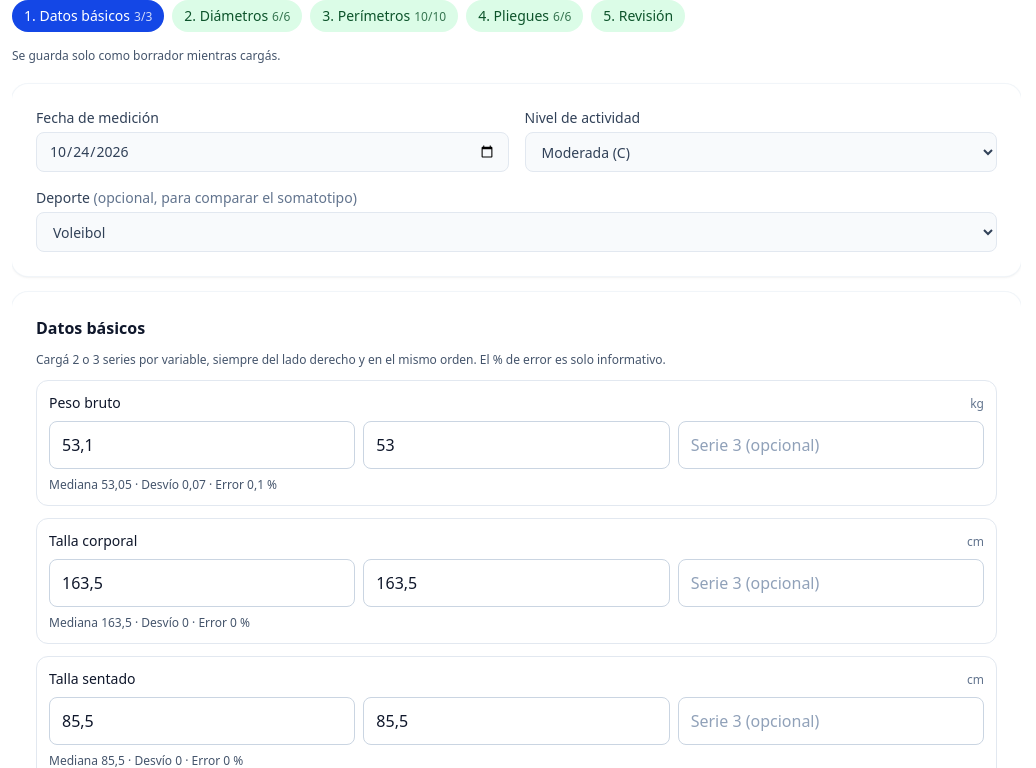
Test case: error técnico de medición del investigador elegido › muestra %ETM de pliegues y de las otras variables, solo lectura, con link a la tabla completa
The image size is (1036, 768).
Click the button "5. Revisión" at [638, 16], box [591,0,685,32]
(page scrolled)
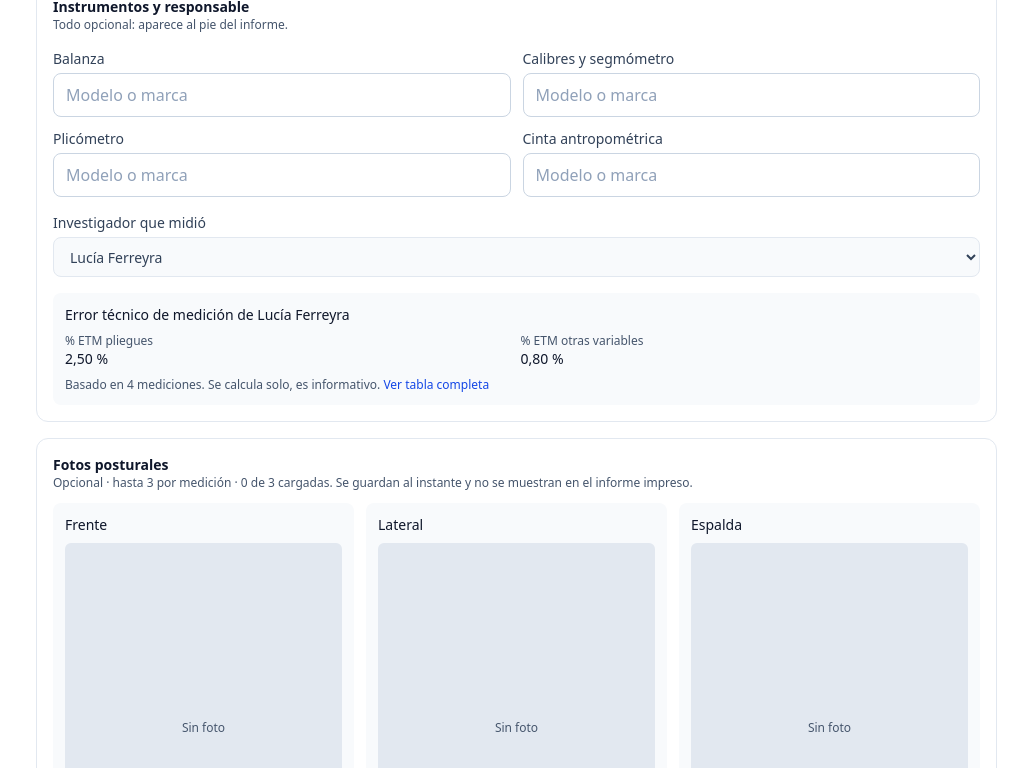
Check: the text "2,50 %" is shown, box [65,349,108,368]
Check: the text "0,80 %" is shown, box [520,349,564,368]
Check: the text "Basado en 4 mediciones" is shown, box [65,375,664,393]
